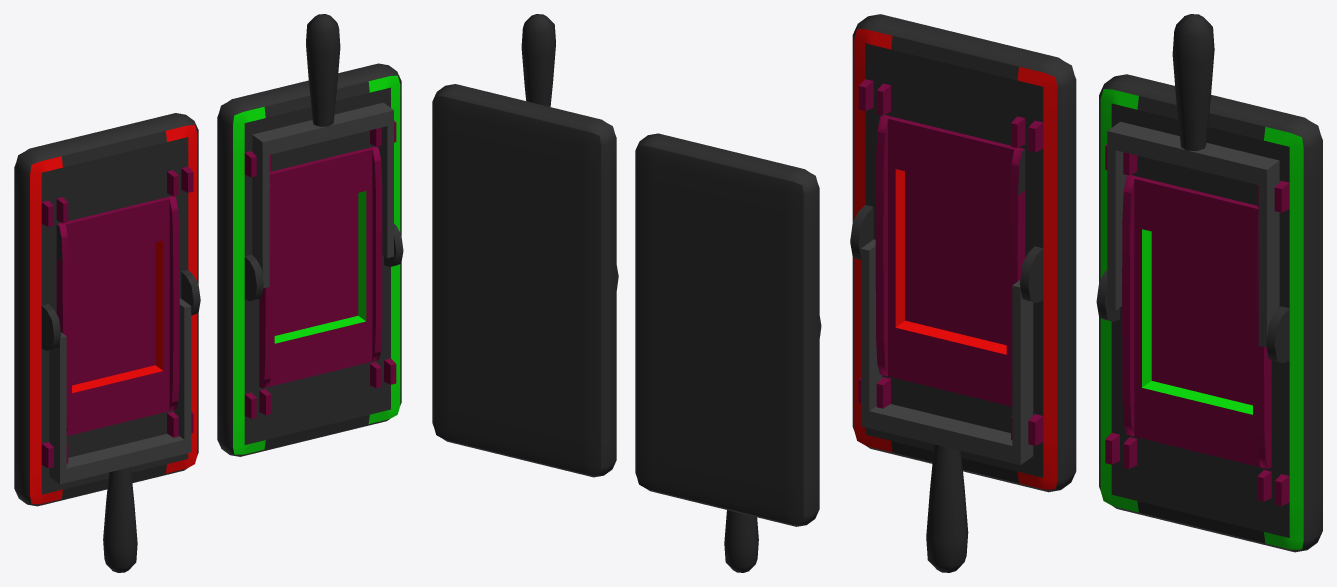
The model's file is Switch_On&Off.fbx.
3 views of the same model, side by side, from view 1: azimuth 30°, elevation 25°; view 2: azimuth 150°, elevation 25°; view 3: azimuth 330°, elevation 25° (orthographic). The views are drawn at different scales.
Visible parts, largest first — view 1: polySurface4, polySurface5; view 2: polySurface5, polySurface4; view 3: polySurface4, polySurface5.
Boxes of the visible parts, <box> form: polySurface4: <box>14,113,200,572</box>; polySurface5: <box>217,14,403,456</box>; polySurface5: <box>432,14,618,477</box>; polySurface4: <box>635,133,821,572</box>; polySurface4: <box>850,14,1076,572</box>; polySurface5: <box>1096,14,1322,552</box>.
Size of the model in its own units: 6.69 by 8.6 by 0.9601.
